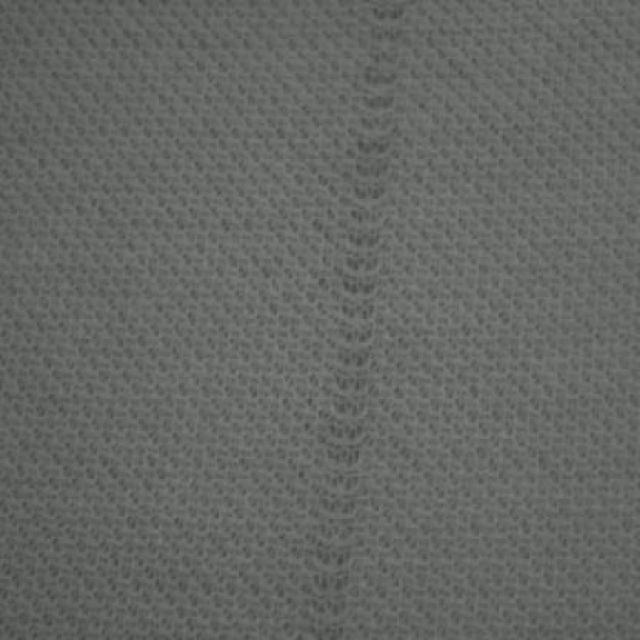Line: (310, 0, 410, 639)
